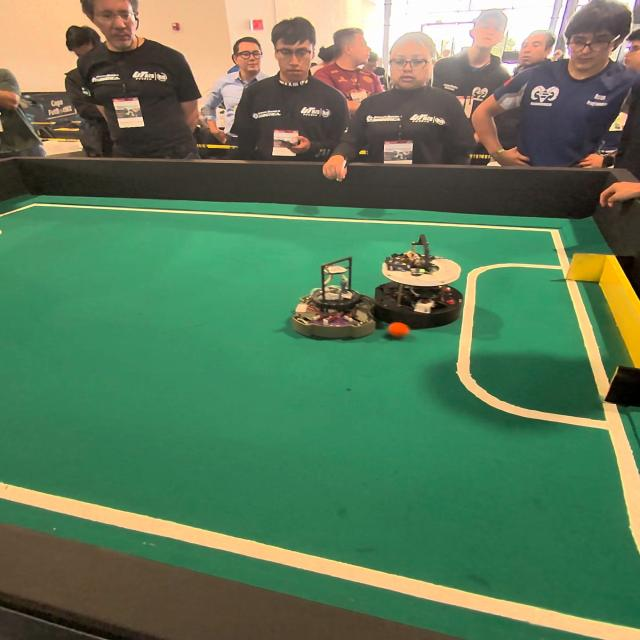Robot: (377, 235, 465, 336), (292, 255, 375, 343)
pelota: (381, 315, 425, 351)
